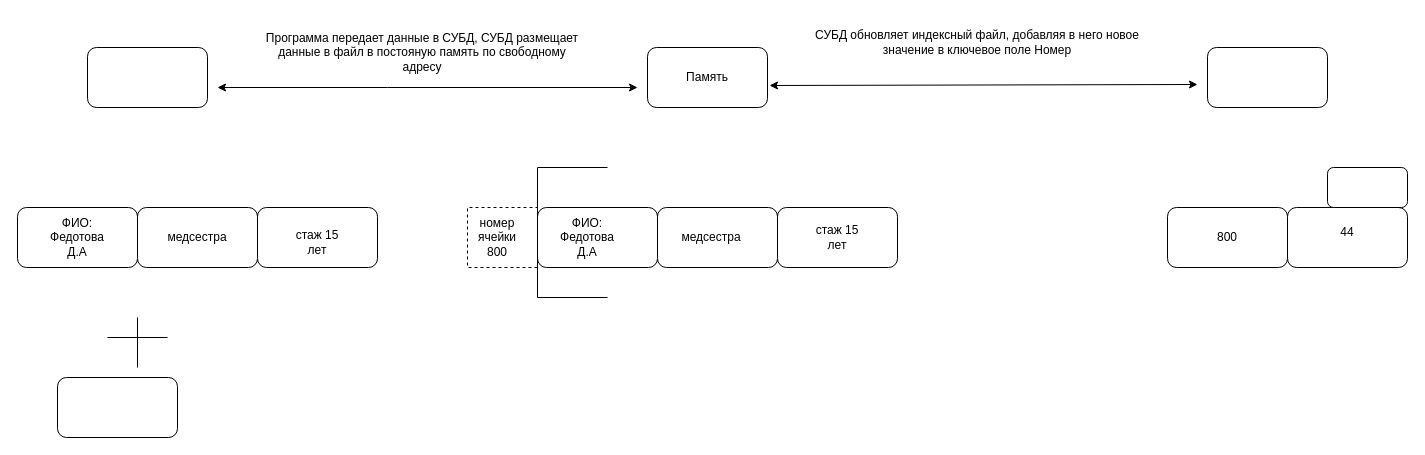
Some shapes in this 1425 by 455 pixel diagram are drawn without their labels. Each missing label, with the box of its shape:
Индекс: (1206, 46, 1328, 108)
Ключ "номер": (1326, 166, 1408, 208)
ключевое поле "номер": (56, 376, 178, 438)
Новые данные пользователь вводит в программу: (86, 46, 208, 108)
